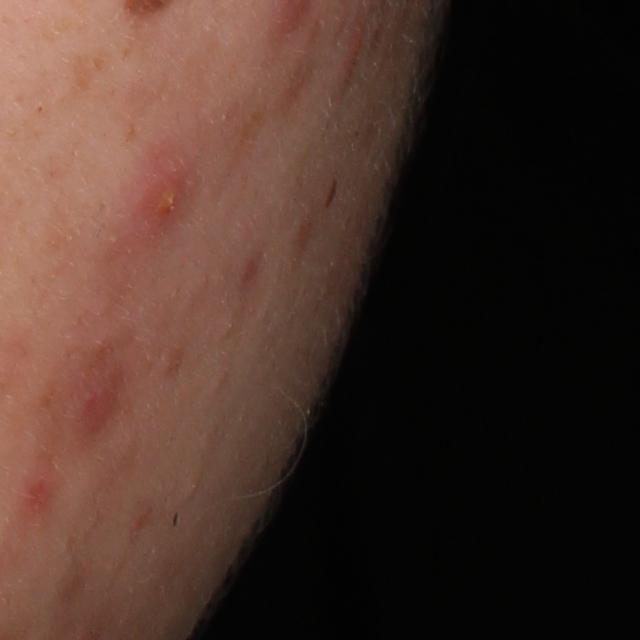papule: (62, 344, 130, 447), (16, 460, 60, 525), (143, 179, 190, 234), (338, 22, 367, 78)
